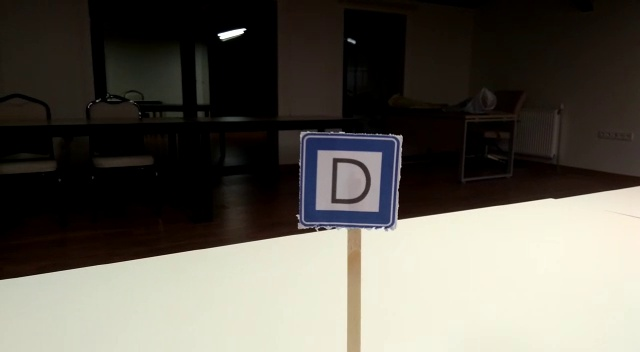durak: (301, 134, 400, 225)
